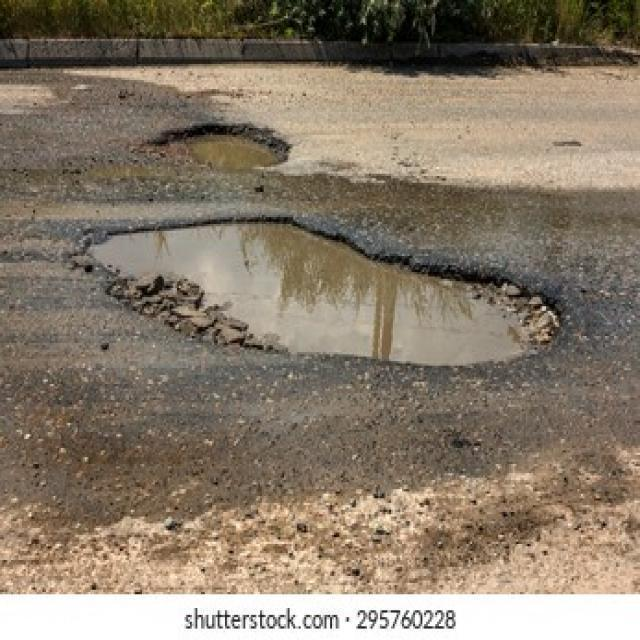pothole: (83, 213, 565, 369), (142, 121, 292, 169)
